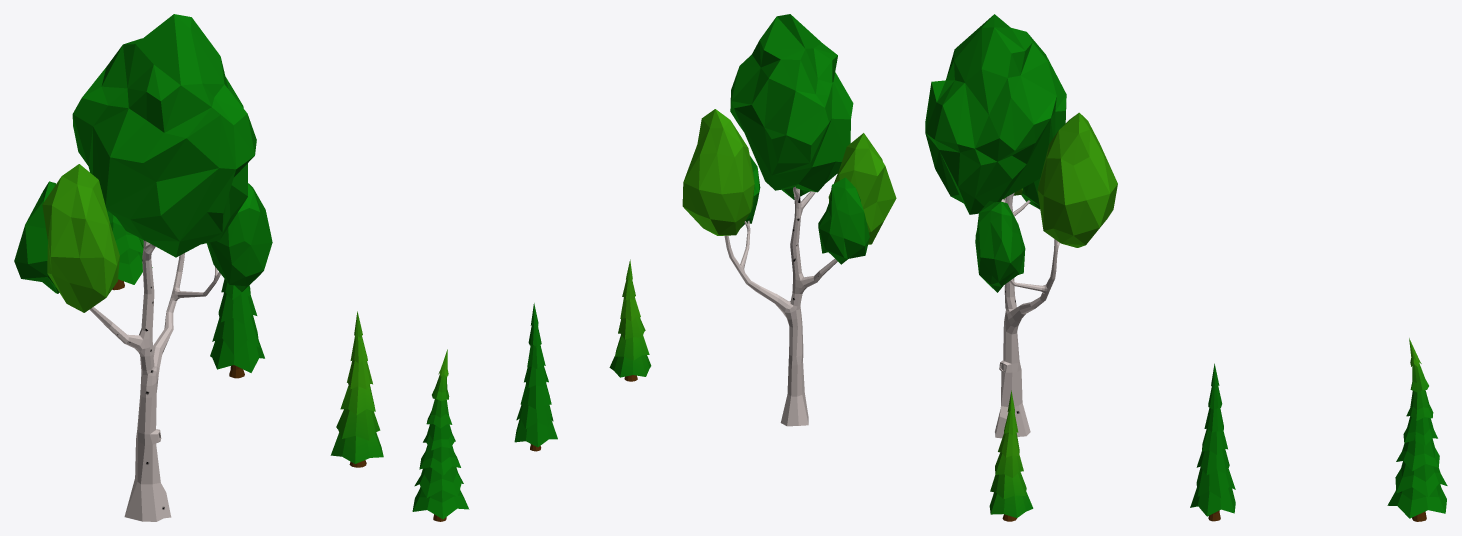
File: trees.glb
3 views of the same model, side by side, from view 1: azimuth 30°, elevation 25°; view 2: azimuth 150°, elevation 25°; view 3: azimuth 270°, elevation 25° (orthographic). The views are drawn at different scales.
Visible parts, largest first — view 1: Birch_1, Fir_1, Fir_2, Fir_3; view 2: Birch_1, Fir_3, Fir_2, Fir_1; view 3: Birch_1, Fir_3, Fir_2, Fir_1.
Part boxes in pixels (box(x1,y1,x2,y2)): Birch_1: box(14, 14, 272, 521); Fir_1: box(330, 311, 383, 467); Fir_2: box(210, 279, 264, 378); Fir_3: box(106, 210, 152, 290); Birch_1: box(682, 14, 896, 426); Fir_3: box(412, 349, 469, 521); Fir_2: box(514, 303, 557, 451); Fir_1: box(609, 259, 651, 381); Birch_1: box(925, 14, 1117, 438); Fir_3: box(1387, 338, 1447, 521); Fir_2: box(1190, 363, 1235, 521); Fir_1: box(989, 390, 1033, 521).
Bounding box in the file's own units: 10.09 × 13.74 × 15.3.
Materials: 4 (4 with a texture image).
